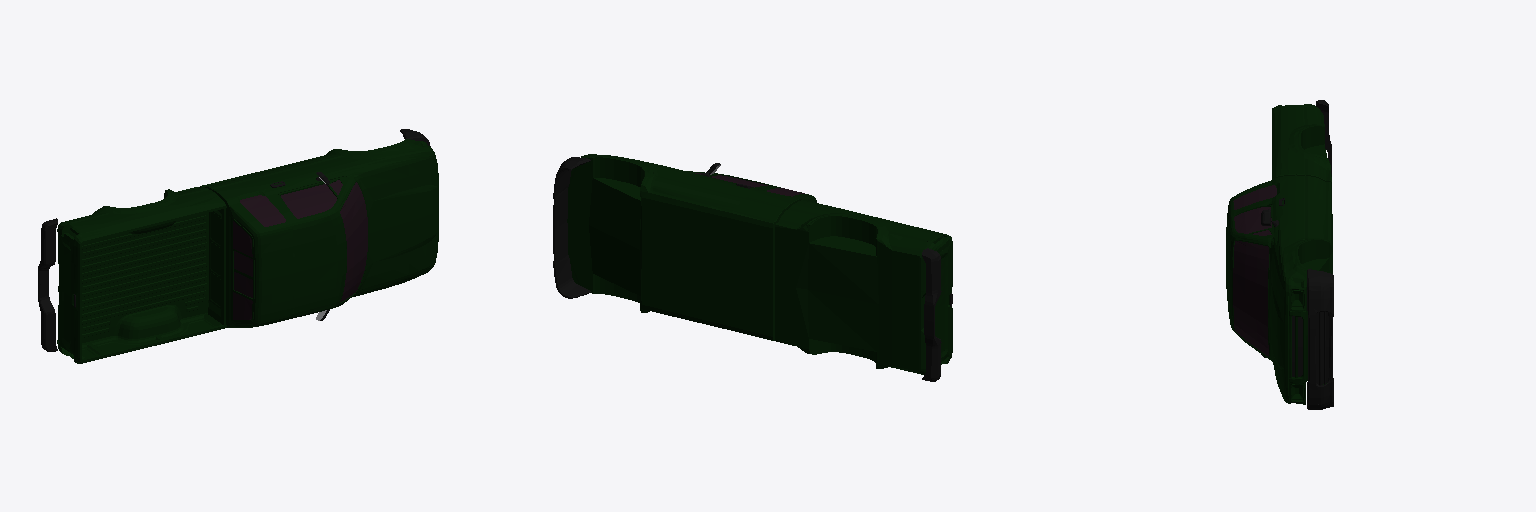
The model's file is karoserie.obj.
The picture shows the model from 3 angles: view 1: azimuth 30°, elevation 25°; view 2: azimuth 150°, elevation 25°; view 3: azimuth 270°, elevation 25°; orthographic projection.
Visible parts, largest first — view 1: Toyota Hilux_Toyota Hilux, Toyota Hilux.003_Toyota Hilux.003, Toyota Hilux.001_Toyota Hilux.001; view 2: Toyota Hilux_Toyota Hilux, Toyota Hilux.001_Toyota Hilux.001; view 3: Toyota Hilux_Toyota Hilux, Toyota Hilux.003_Toyota Hilux.003, Toyota Hilux.001_Toyota Hilux.001.
Boxes of the visible parts, x1,y1,x2,y2 form: Toyota Hilux_Toyota Hilux: [57, 139, 438, 363]; Toyota Hilux.003_Toyota Hilux.003: [233, 180, 367, 319]; Toyota Hilux.001_Toyota Hilux.001: [38, 129, 430, 351]; Toyota Hilux_Toyota Hilux: [567, 154, 952, 374]; Toyota Hilux.001_Toyota Hilux.001: [553, 157, 952, 381]; Toyota Hilux_Toyota Hilux: [1226, 104, 1332, 404]; Toyota Hilux.003_Toyota Hilux.003: [1233, 185, 1276, 356]; Toyota Hilux.001_Toyota Hilux.001: [1261, 100, 1333, 409].
Bounding box in the file's own units: 4.88 × 1.79 × 1.19.